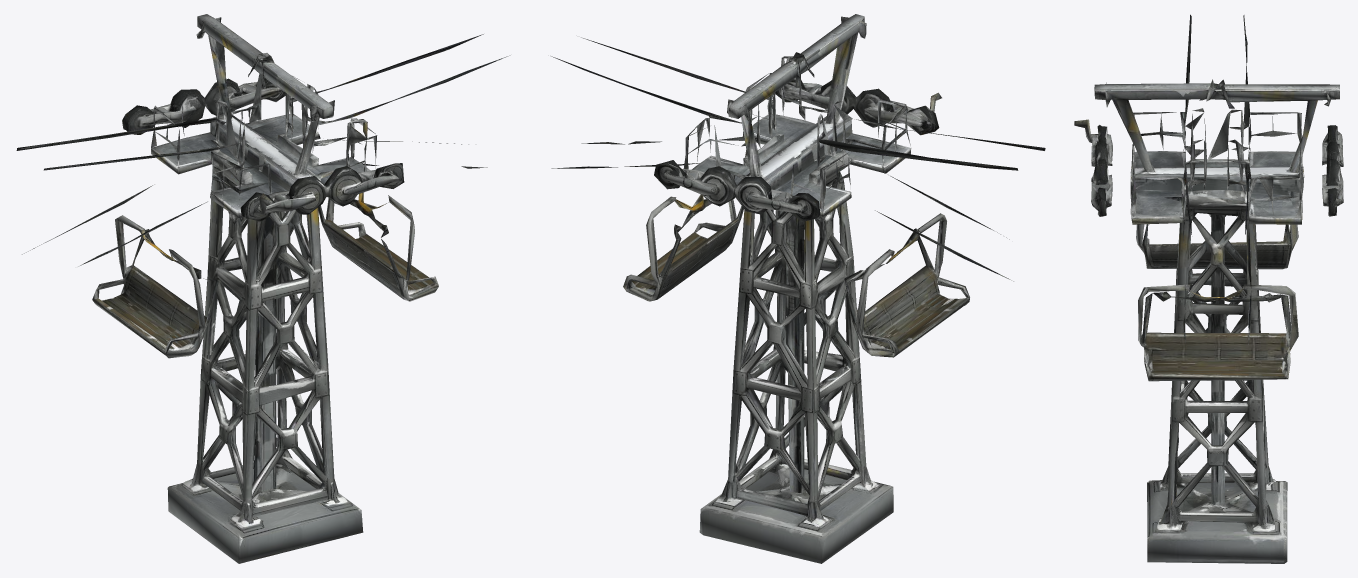
The model's file is skilift.glb.
The picture shows the model from 3 angles, left to right: view 1: azimuth 30°, elevation 25°; view 2: azimuth 150°, elevation 25°; view 3: azimuth 270°, elevation 25°; orthographic projection. The views are drawn at different scales.
Visible parts, largest first — view 1: Mesh_0; view 2: Mesh_0; view 3: Mesh_0.
Part boxes in pixels (x1,y1,x2,y2): Mesh_0: (16,14,510,563); Mesh_0: (551,14,1045,563); Mesh_0: (1074,14,1343,563).
Bounding box in the file's own units: 1.9 × 1.81 × 0.971.
1 material, 1 textured.
